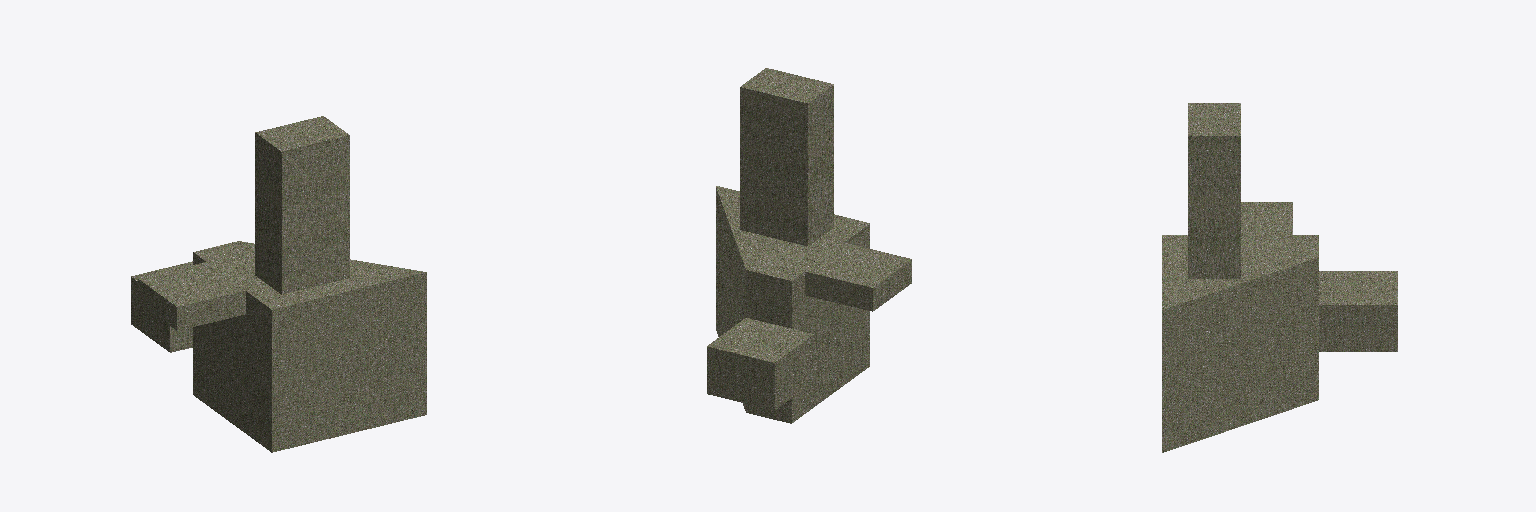
3 renders of one model, left to right at view 1: azimuth 30°, elevation 25°; view 2: azimuth 150°, elevation 25°; view 3: azimuth 270°, elevation 25°, orthographic.
Parts seen in each view (by area): view 1: entity0_brush0, entity0_brush3, entity0_brush2, entity0_brush1; view 2: entity0_brush0, entity0_brush3, entity0_brush1, entity0_brush2; view 3: entity0_brush0, entity0_brush3, entity0_brush1, entity0_brush2.
Boxes of the visible parts, box(x1,y1,x2,y2) form: entity0_brush0: box(193, 241, 426, 452); entity0_brush3: box(255, 116, 349, 294); entity0_brush2: box(138, 262, 245, 330); entity0_brush1: box(131, 261, 192, 352); entity0_brush0: box(716, 186, 869, 423); entity0_brush3: box(740, 68, 833, 245); entity0_brush1: box(707, 318, 813, 410); entity0_brush2: box(805, 243, 911, 311); entity0_brush0: box(1162, 235, 1318, 452); entity0_brush3: box(1188, 103, 1240, 278); entity0_brush1: box(1319, 271, 1397, 351); entity0_brush2: box(1241, 202, 1292, 234).
Bounding box in the file's own units: 157 × 192 × 144.
1 materials, 1 textured.